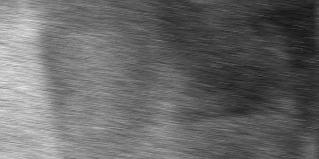Airbag: (0, 0, 319, 159), (317, 0, 319, 159)
